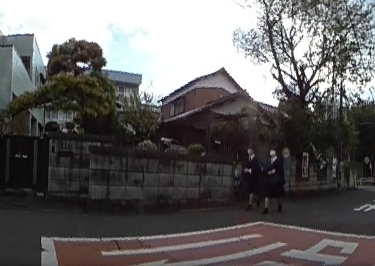person: (240, 147, 264, 209), (262, 146, 283, 214)
